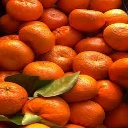orange: (21, 96, 70, 127), (73, 50, 113, 81), (22, 61, 64, 87), (1, 39, 34, 71), (67, 8, 105, 33), (1, 81, 28, 116), (5, 0, 45, 21)
